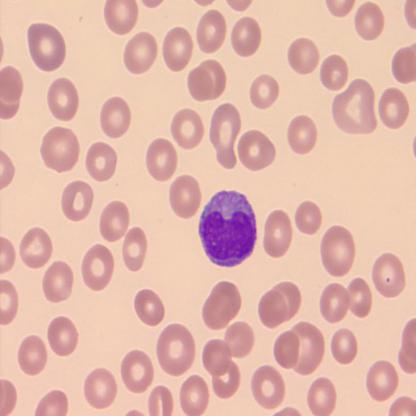Monocyte: (198, 188, 257, 268)
